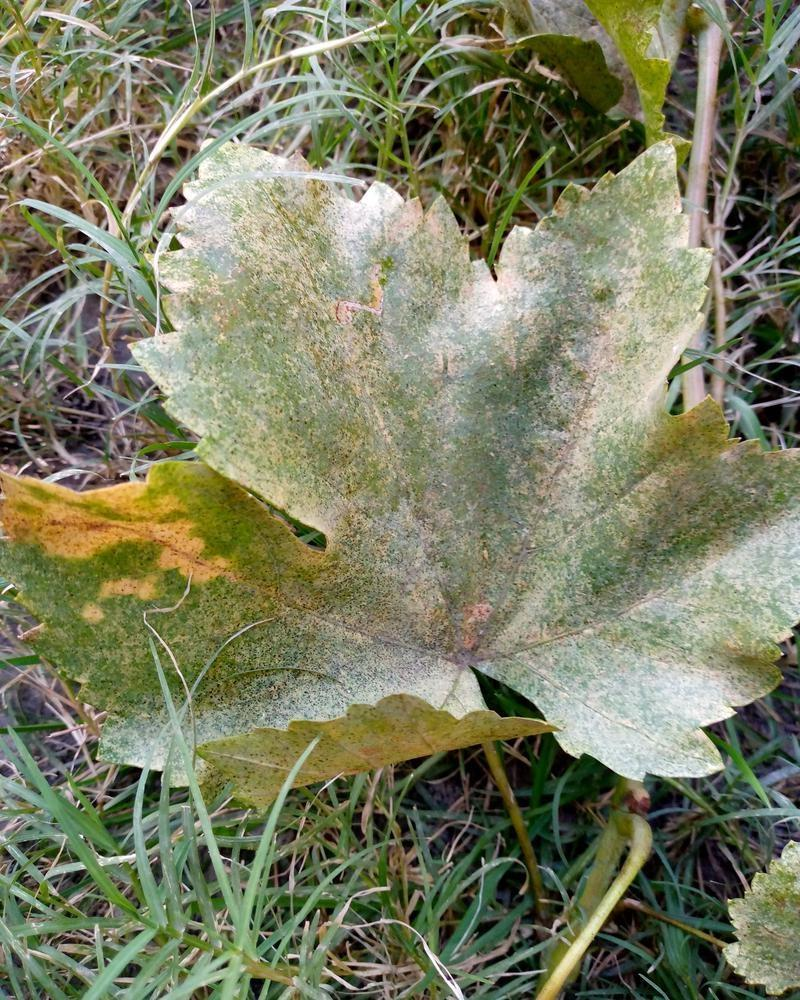Powdery-Mildew: (549, 501, 799, 793), (135, 130, 309, 393), (333, 183, 563, 339), (575, 157, 697, 451), (0, 485, 236, 633), (344, 469, 484, 642), (280, 316, 370, 454), (501, 447, 612, 554), (396, 381, 459, 444)
